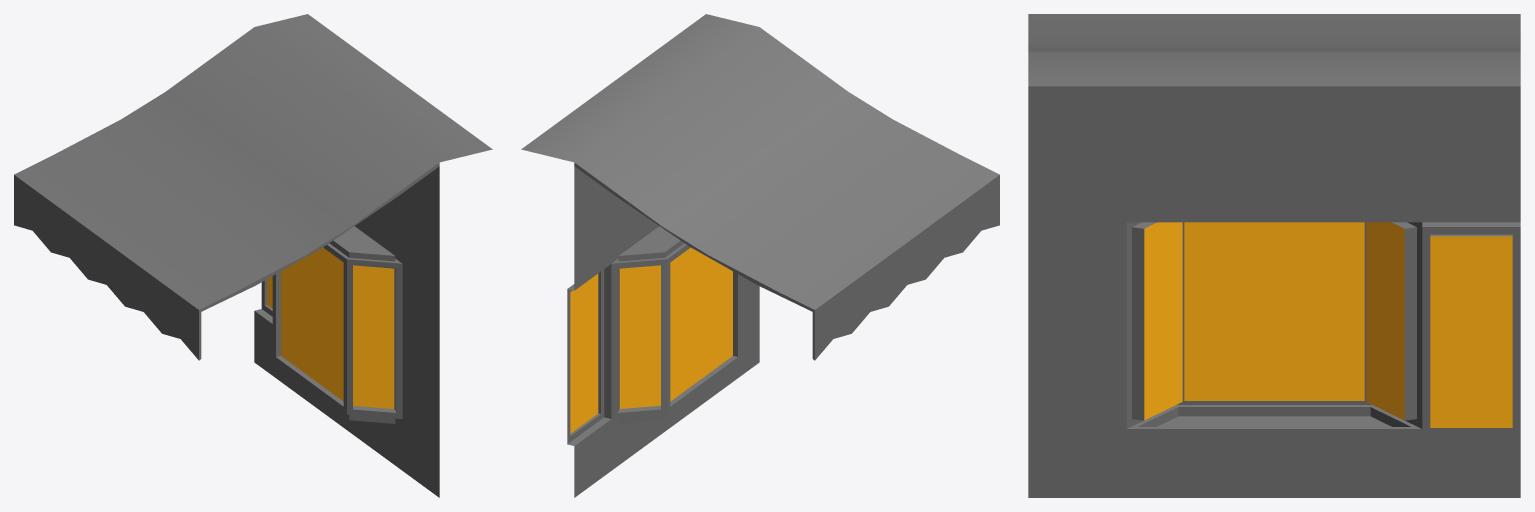
Rendered from O5_Façade_Boutique_Oriel_Fenetre_Gauche_Tonnelle 1.fbx.
The picture shows the model from 3 angles, left to right: view 1: azimuth 30°, elevation 25°; view 2: azimuth 150°, elevation 25°; view 3: azimuth 270°, elevation 25°; orthographic projection. The views are drawn at different scales.
Visible parts, largest first — view 1: O5_Façade_Boutique_Oriel_Fenetre_Gauche_Tonnelle; view 2: O5_Façade_Boutique_Oriel_Fenetre_Gauche_Tonnelle; view 3: O5_Façade_Boutique_Oriel_Fenetre_Gauche_Tonnelle.
Part boxes in pixels (x1,y1,x2,y2): O5_Façade_Boutique_Oriel_Fenetre_Gauche_Tonnelle: (14, 14, 492, 497); O5_Façade_Boutique_Oriel_Fenetre_Gauche_Tonnelle: (521, 14, 999, 497); O5_Façade_Boutique_Oriel_Fenetre_Gauche_Tonnelle: (1028, 14, 1520, 497).
Size of the model in its own units: 2.75 by 3 by 3.
